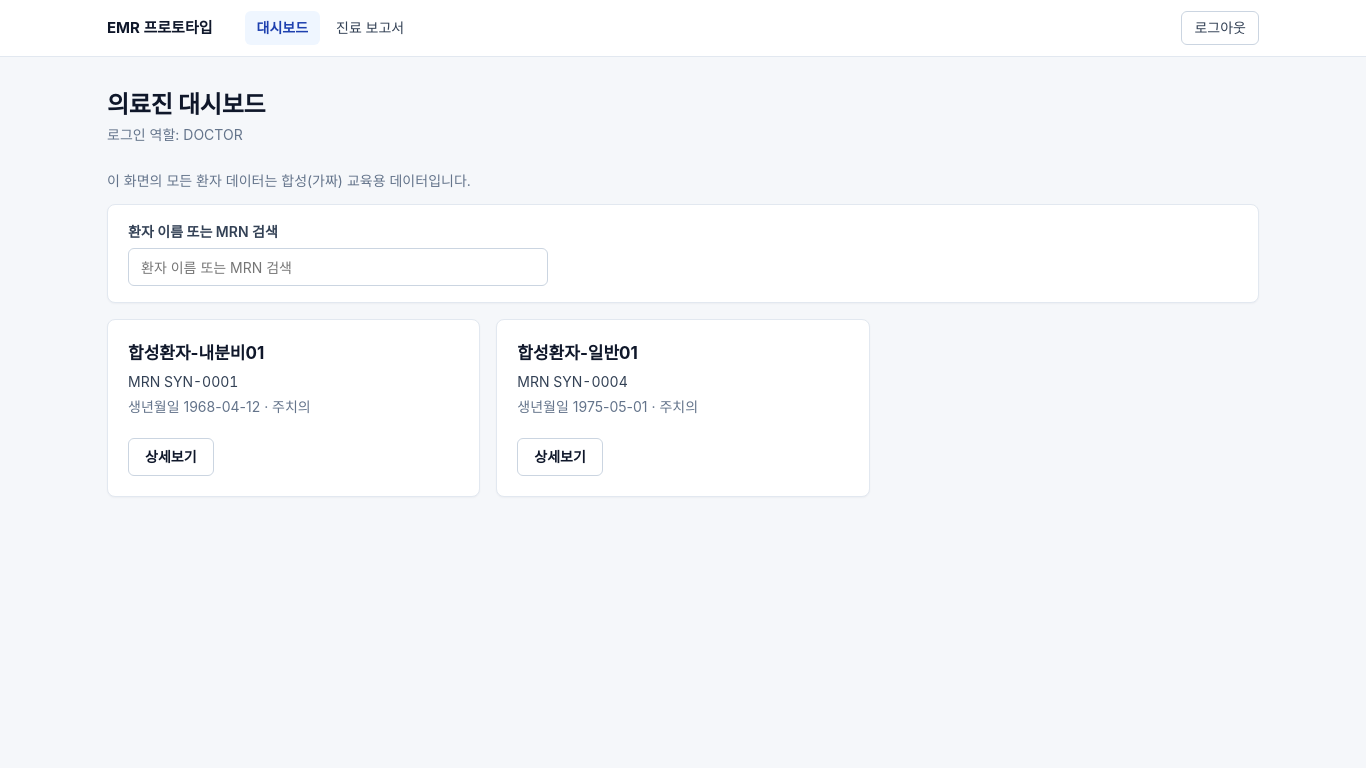
Test: DoctorDashboard Patient Search (UX-1A) › filters by a partial patient name match
The image size is (1366, 768).
Expected: the text "합성환자-내분비01" is shown, 128,343 -> 264,363
Type "내분비" into the field labelled "환자 이름 또는 MRN 검색" at x=338, y=267, box 128,248 -> 548,286
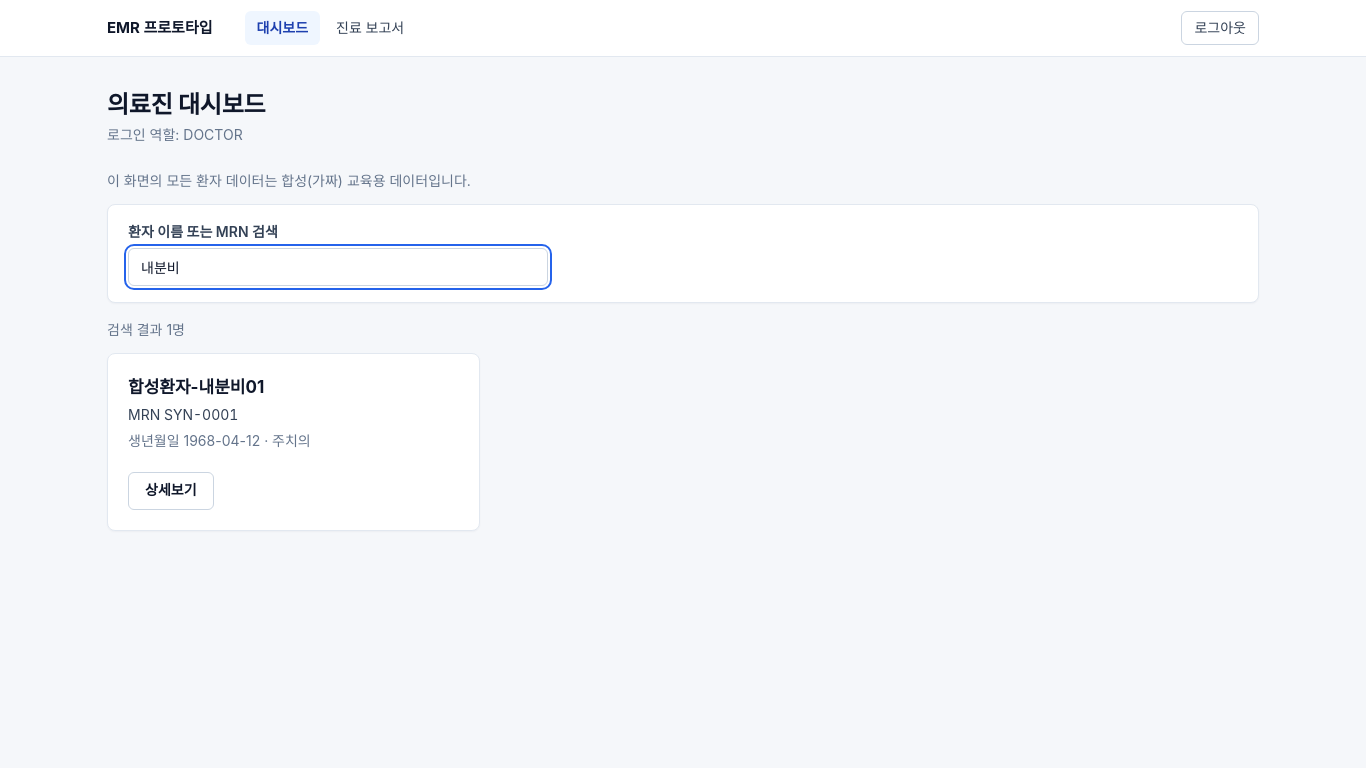
Expected: the text "합성환자-내분비01" is shown, 128,377 -> 264,397
Expected: the text "합성환자-일반01" is gone
